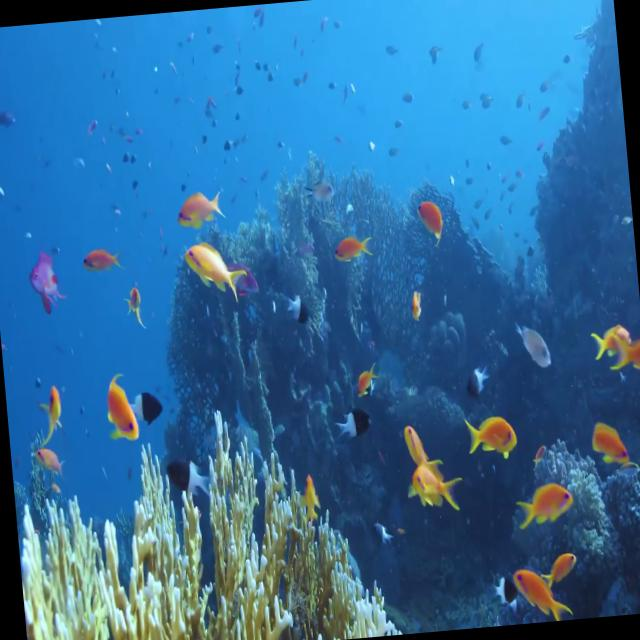fish: (175, 229, 252, 306), (450, 398, 524, 469), (506, 463, 580, 525), (512, 552, 575, 624), (404, 445, 464, 520), (16, 235, 63, 326), (505, 300, 558, 380), (167, 178, 226, 234), (101, 369, 143, 445), (165, 440, 209, 506), (592, 412, 634, 473), (407, 189, 448, 250), (578, 312, 628, 357), (538, 530, 581, 582), (328, 399, 376, 444), (32, 374, 68, 433), (28, 425, 65, 479), (327, 226, 370, 270), (604, 326, 640, 378), (276, 286, 316, 330), (132, 382, 168, 430), (486, 564, 520, 614), (78, 244, 123, 278), (399, 410, 430, 458), (347, 360, 380, 404), (123, 281, 152, 330), (366, 512, 396, 559), (462, 348, 488, 397), (402, 280, 428, 324)
